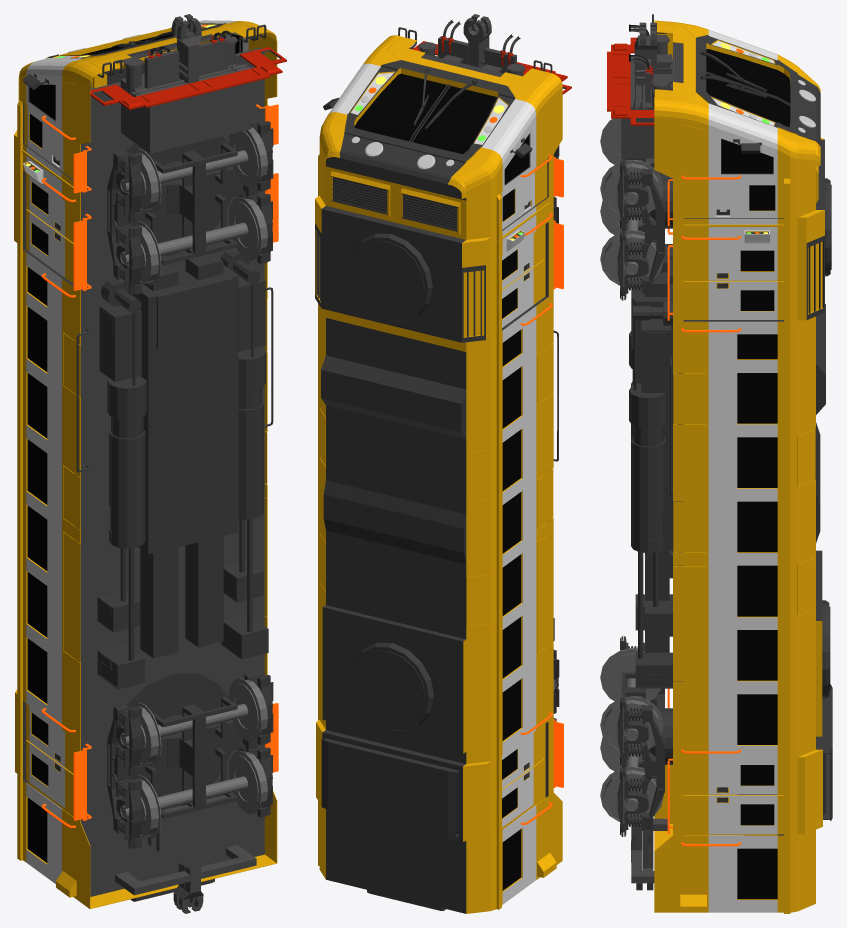
The model's file is Train.fbx.
3 renders of one model, left to right at view 1: azimuth 30°, elevation 25°; view 2: azimuth 150°, elevation 25°; view 3: azimuth 270°, elevation 25°, orthographic. The views are drawn at different scales.
Visible parts, largest first — view 1: FrontTrain; view 2: FrontTrain; view 3: FrontTrain.
Part boxes in pixels (<box>): FrontTrain: <box>14,14,286,913</box>; FrontTrain: <box>315,14,571,913</box>; FrontTrain: <box>600,14,832,913</box>.
Bounding box in the file's own units: 841 × 3349 × 820.
